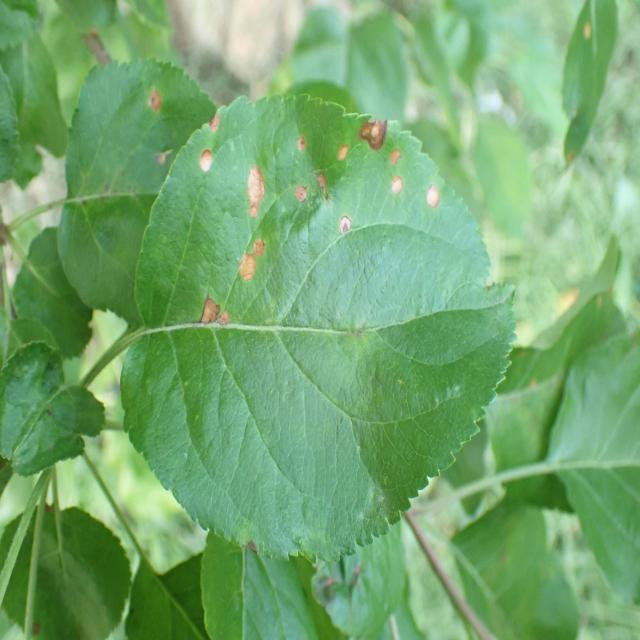Black Rot: (180, 284, 234, 346), (231, 230, 278, 298), (236, 150, 271, 226), (142, 58, 170, 138), (356, 102, 390, 154), (190, 136, 218, 188), (334, 208, 362, 256), (382, 170, 411, 216), (421, 174, 450, 218), (286, 174, 312, 219), (311, 168, 335, 214), (146, 147, 177, 174), (195, 112, 228, 134), (292, 127, 312, 156), (385, 142, 404, 169), (334, 137, 351, 167)
